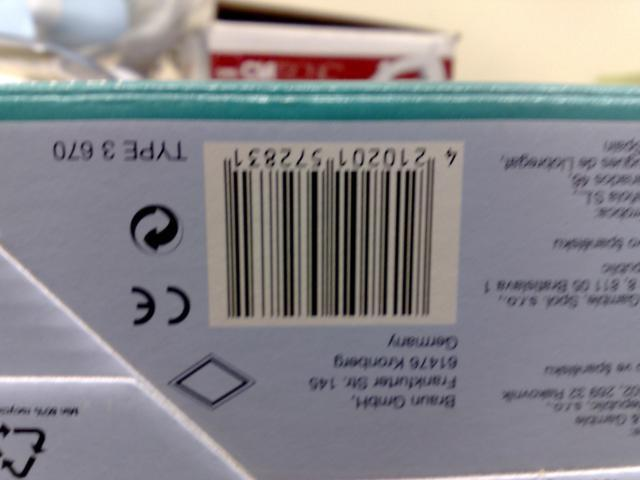Barcode: (203, 142, 463, 323)
